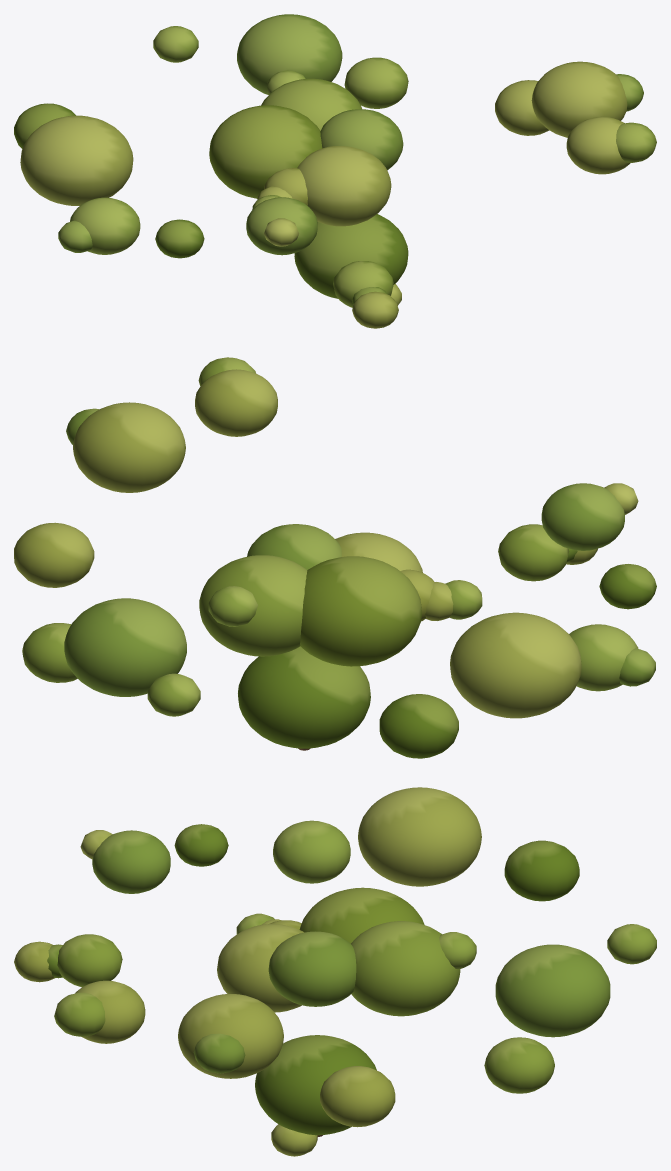
File: colony-acacia.obj
3 renders of one model, top to bottom at view 1: azimuth 30°, elevation 25°; view 2: azimuth 150°, elevation 25°; view 3: azimuth 270°, elevation 25°, orthographic. The views are drawn at different scales.
Parts seen in each view (by area): view 1: tree; view 2: tree; view 3: tree.
Boxes of the visible parts, x1=… form: tree: x1=14, y1=14, x2=656, y2=328; tree: x1=14, y1=357, x2=656, y2=758; tree: x1=14, y1=787, x2=656, y2=1156.
Bounding box in the file's own units: 667 × 264 × 628.
